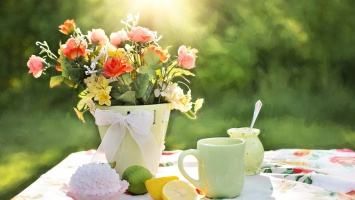flowerpot: (91, 102, 172, 184)
